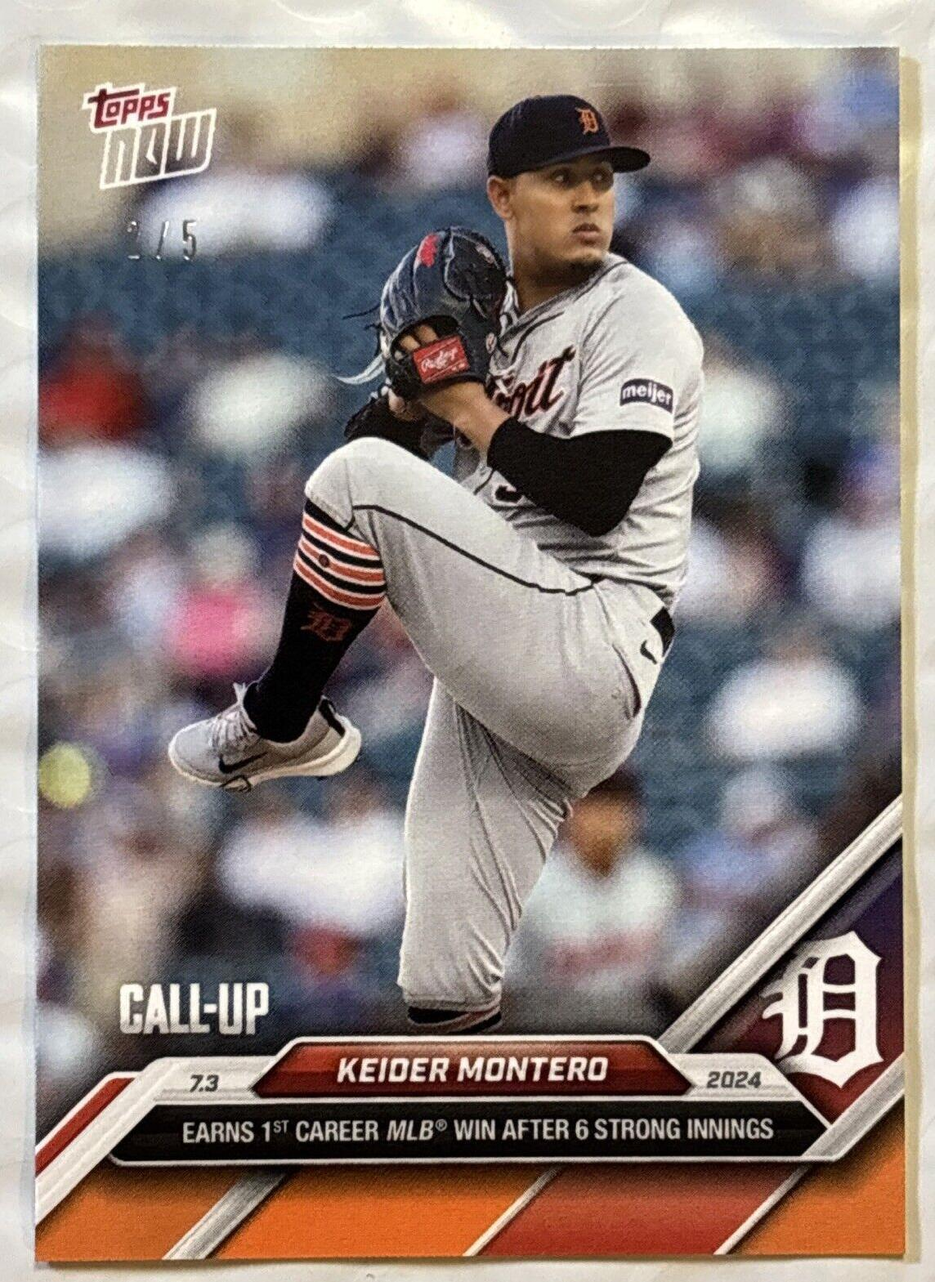egg: (93, 127, 841, 1153)
